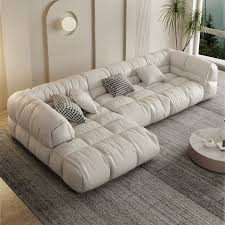couch: (6, 46, 225, 196)
